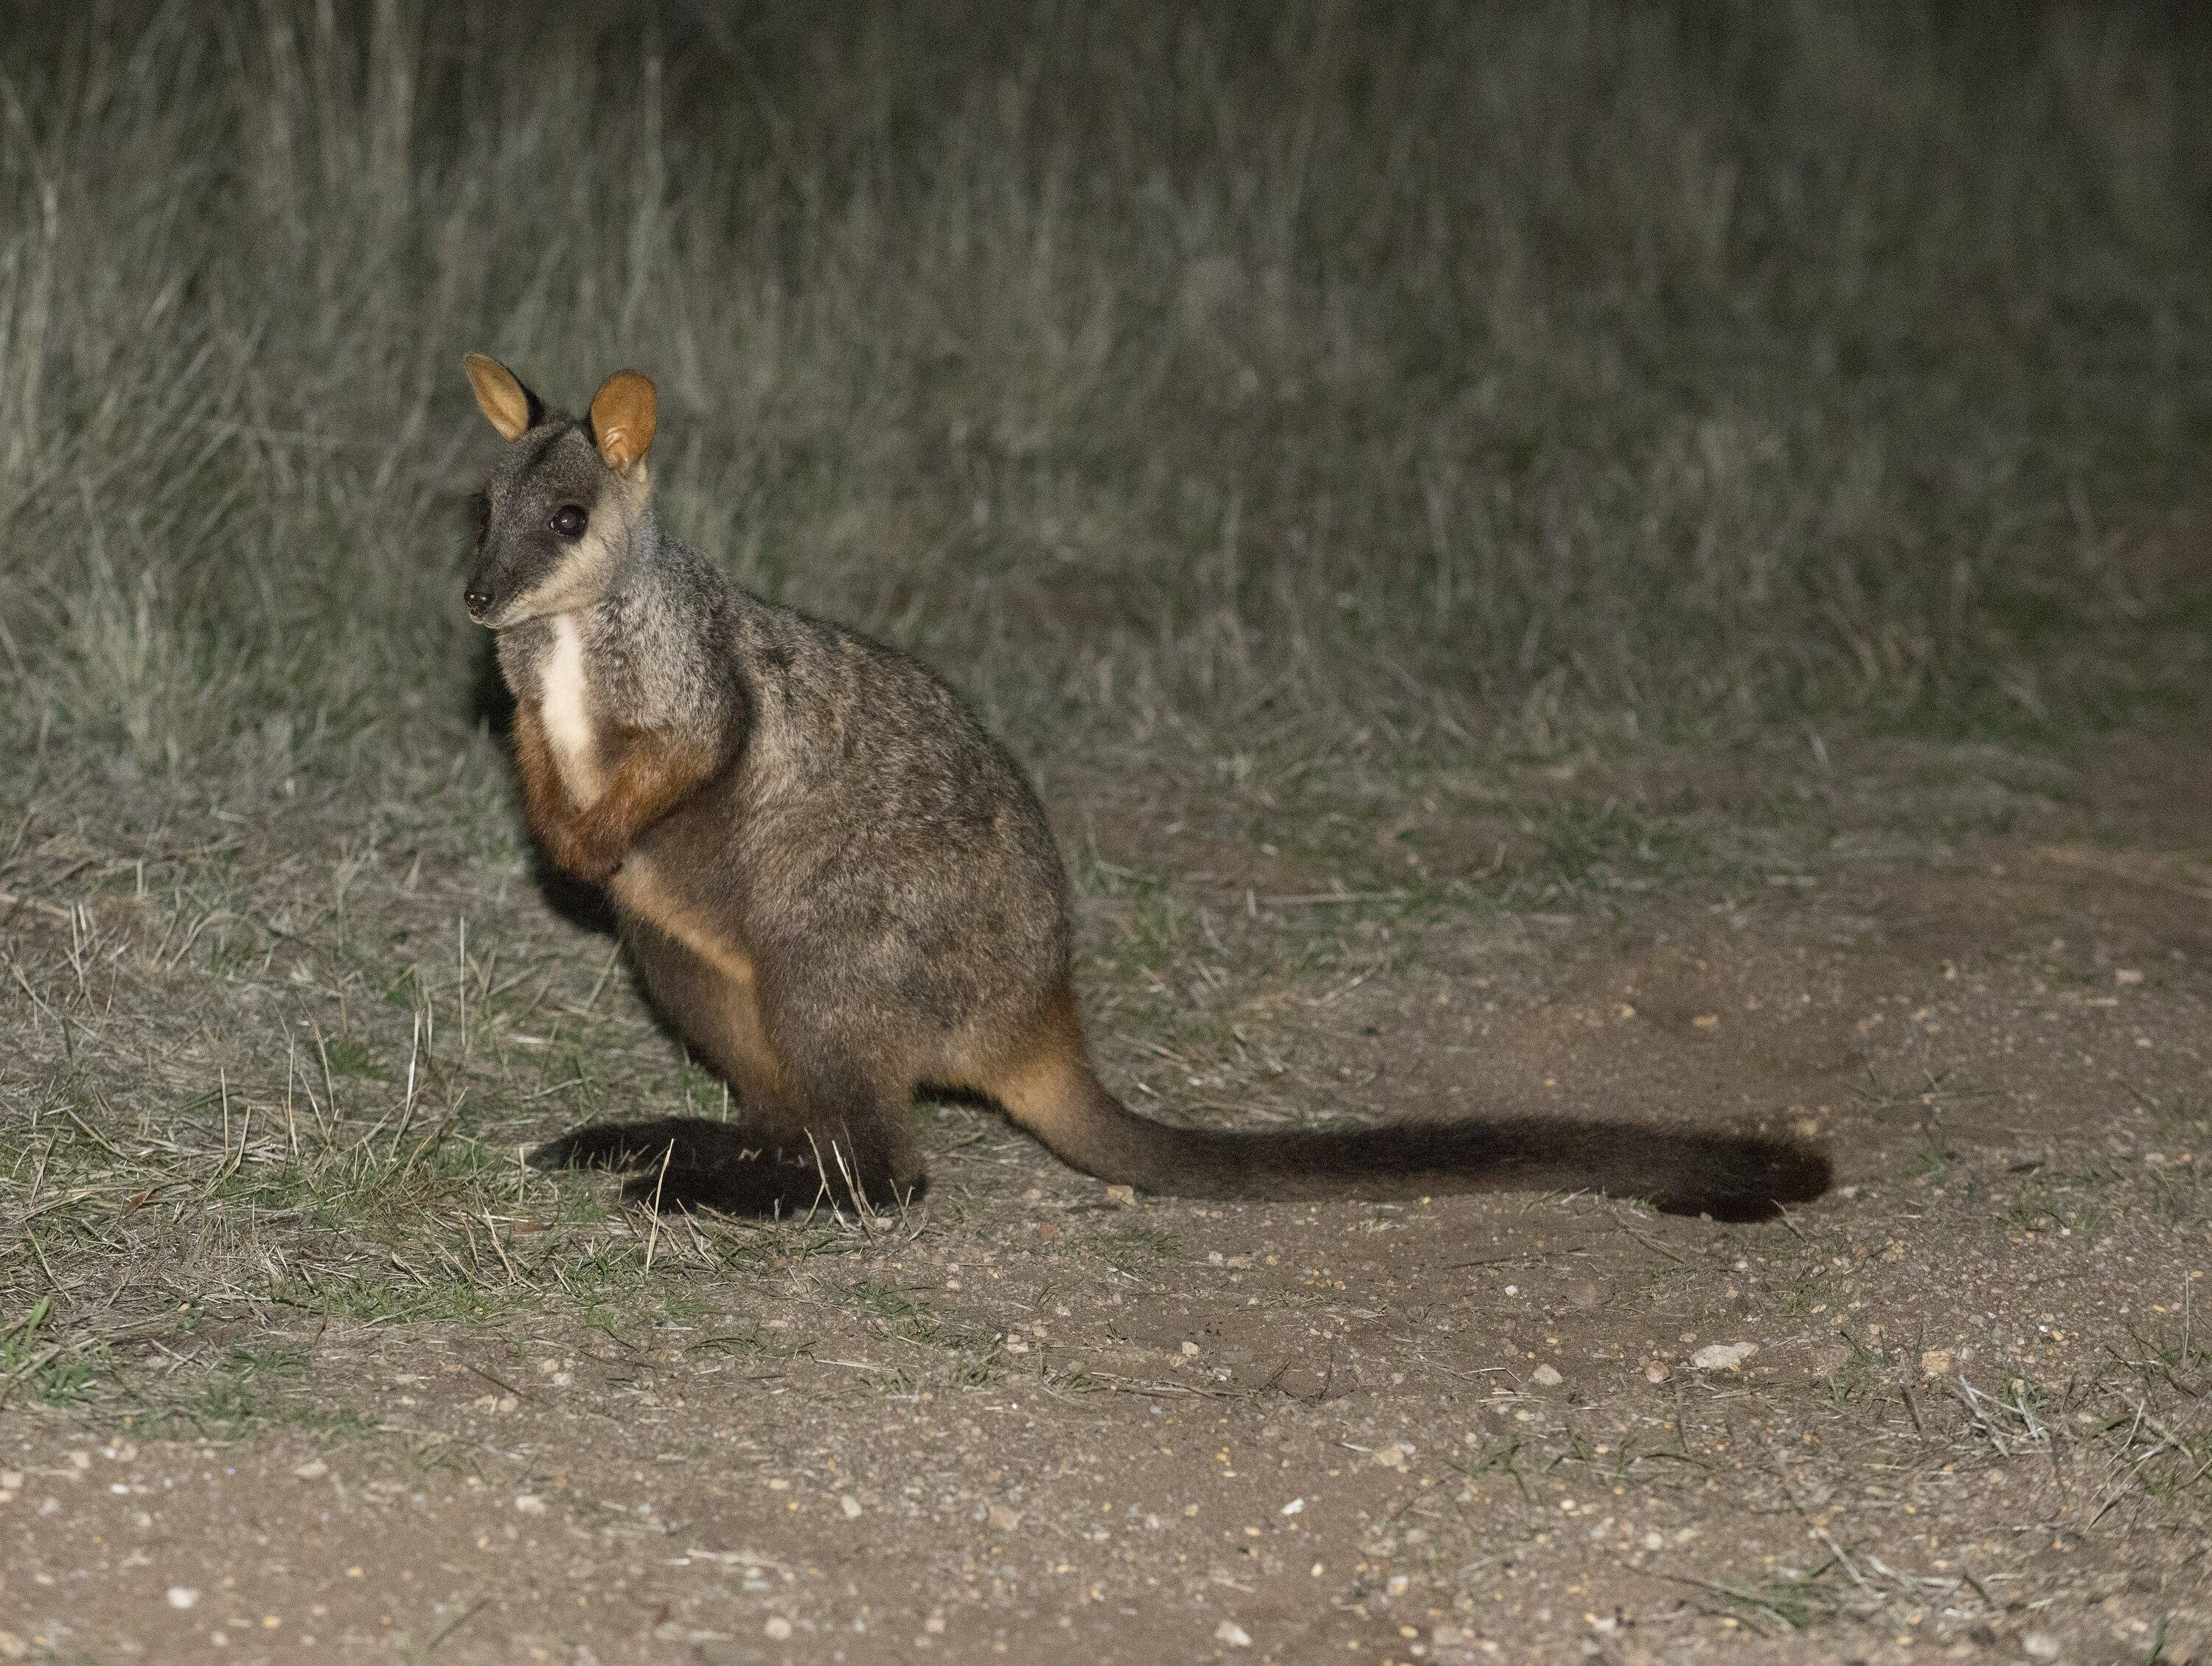Brush-tailed rock-wallaby: (448, 352, 1841, 1234)
